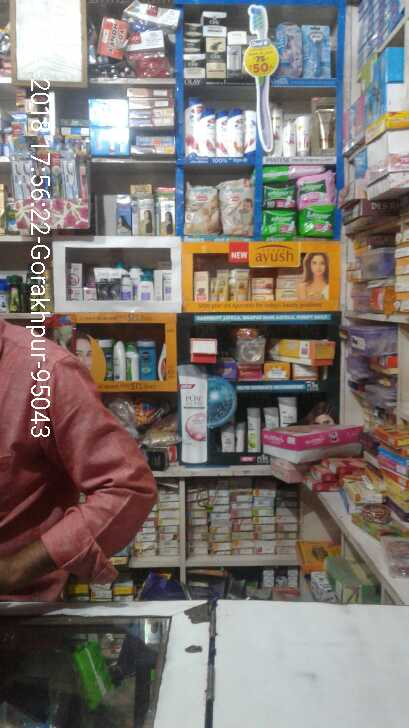venus: (301, 23, 330, 79), (277, 21, 301, 79)
